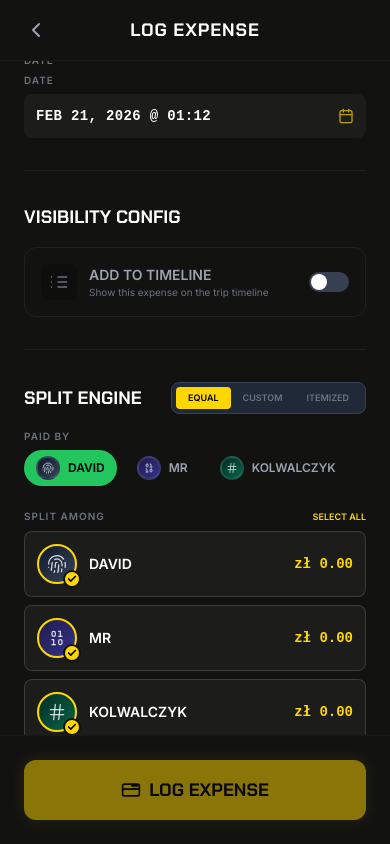
Test case: LogExpense Split Functionality › Basic Mode Switching › switches from EQUAL to CUSTOM mode
(page scrolled)
Click the button "Custom" at (263, 398), box [231,387,294,408]
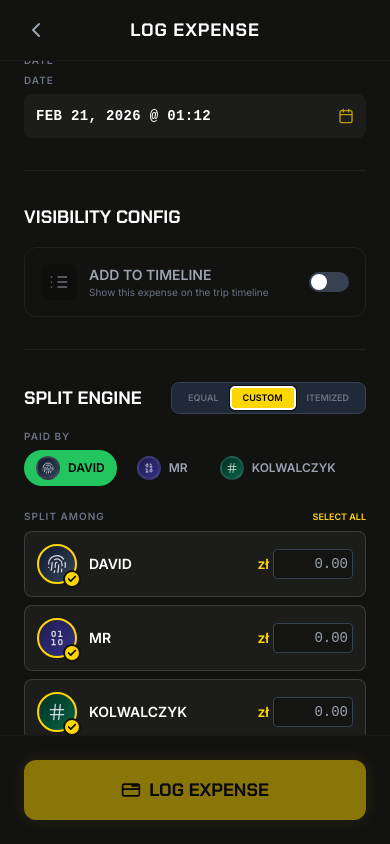
Now the 1st number field with placeholder "0.00" is shown, box [273,549,353,579]
